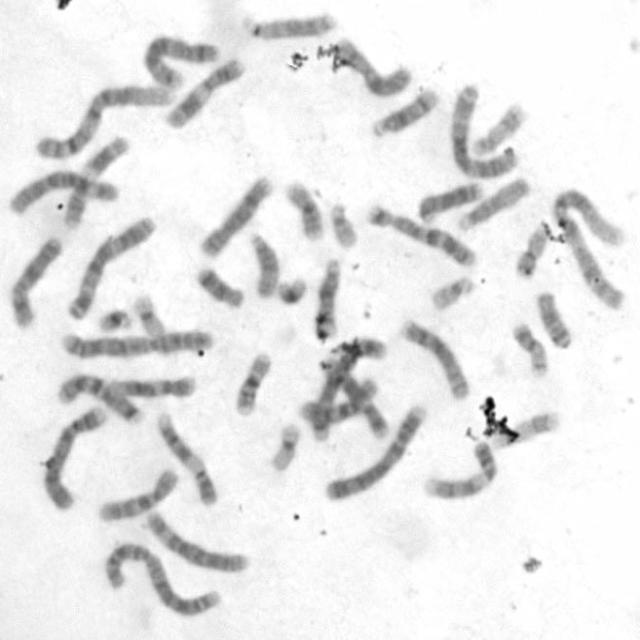A1: (30, 78, 174, 163), (548, 183, 628, 310)
A2: (101, 536, 224, 620), (58, 324, 216, 363)
A3: (62, 210, 159, 322), (445, 79, 519, 180)
B4: (321, 399, 428, 503), (40, 402, 108, 512)
B5: (303, 332, 389, 444), (140, 31, 221, 89)
C10: (296, 372, 380, 434), (94, 464, 180, 524)
C11: (61, 131, 130, 231), (162, 52, 247, 132)
C12: (314, 352, 392, 442), (102, 370, 199, 400)
C6: (140, 505, 252, 575), (5, 166, 121, 217)
C7: (362, 198, 478, 270), (53, 368, 144, 426)
C8: (195, 170, 274, 260), (396, 314, 472, 402)
C9: (153, 409, 219, 507), (419, 438, 500, 501)
D13: (413, 178, 486, 225), (245, 10, 339, 40)
D14: (368, 84, 442, 140), (311, 254, 343, 340)
D15: (454, 172, 532, 232), (244, 228, 280, 300)
E16: (280, 174, 326, 243), (230, 348, 274, 417)
E17: (468, 98, 529, 158), (487, 404, 561, 450)
E18: (532, 287, 575, 350), (192, 262, 245, 310)
F19: (265, 417, 302, 473), (128, 289, 168, 339)
F20: (506, 317, 550, 380), (512, 220, 550, 278)
G21: (273, 272, 309, 307), (94, 305, 134, 333)
G22: (427, 271, 477, 312), (326, 196, 360, 250)
X: (327, 32, 416, 100), (4, 231, 63, 331)
